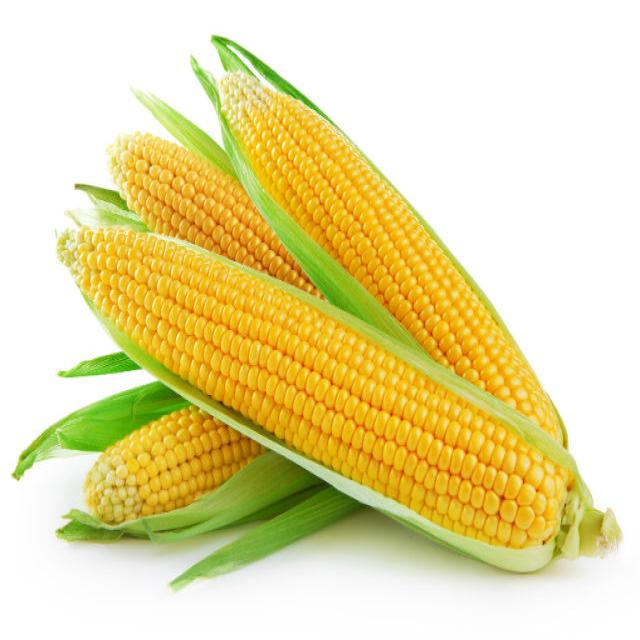Corn: (13, 25, 608, 614), (43, 216, 621, 554), (202, 34, 574, 389), (85, 96, 328, 286), (74, 364, 303, 552)
